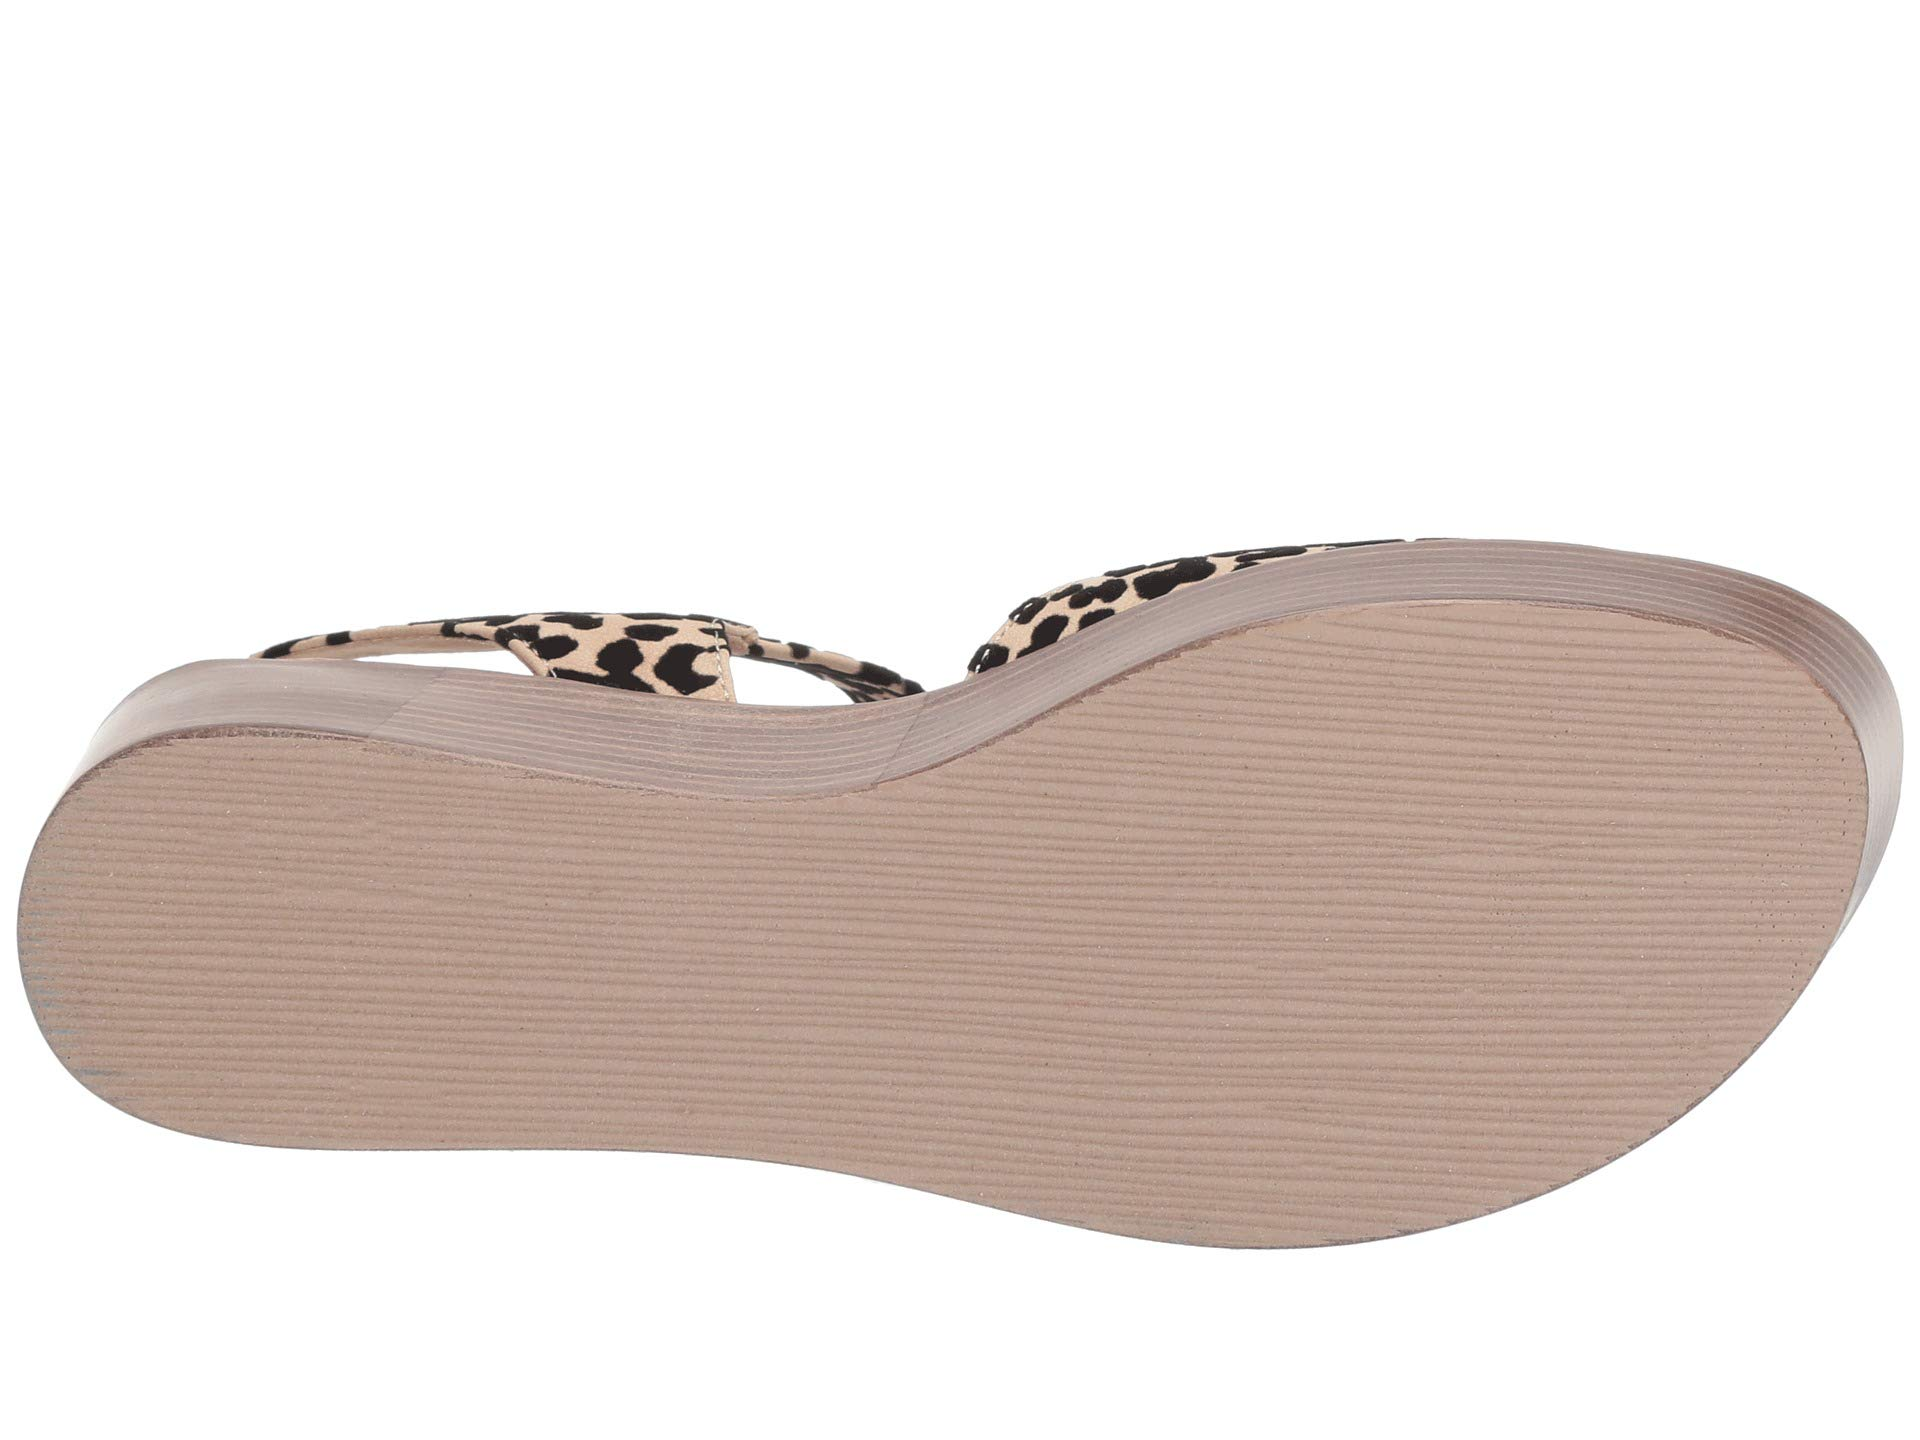line: (1110, 765, 1525, 1154), (218, 802, 537, 1124)
